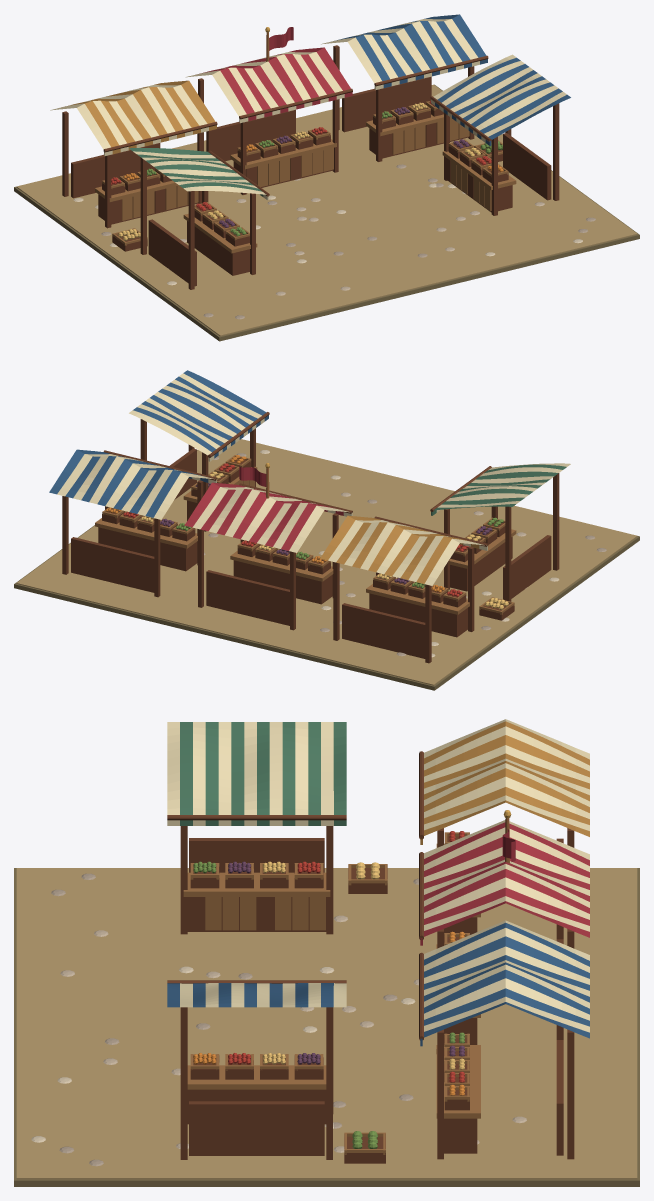
The model's file is market-nivel-2.glb.
3 renders of one model, top to bottom at view 1: azimuth 30°, elevation 25°; view 2: azimuth 150°, elevation 25°; view 3: azimuth 270°, elevation 25°, orthographic. The views are drawn at different scales.
Parts seen in each view (by area): view 1: Mercado 02 #b3986a, Mercado 02 #70432c, Mercado 02 #eadbb2, Mercado 02 #9f7145, Mercado 02 #3a6185, Mercado 02 #7f704e, Mercado 02 #a63843, Mercado 02 #bb8846, Mercado 02 #4d7860, Mercado 02 #e8bf71, Mercado 02 #c1af99, Mercado 02 #ae9d8b; view 2: Mercado 02 #b3986a, Mercado 02 #70432c, Mercado 02 #eadbb2, Mercado 02 #3a6185, Mercado 02 #9f7145, Mercado 02 #7f704e, Mercado 02 #bb8846, Mercado 02 #a63843, Mercado 02 #4d7860, Mercado 02 #e8bf71; view 3: Mercado 02 #b3986a, Mercado 02 #eadbb2, Mercado 02 #70432c, Mercado 02 #9f7145, Mercado 02 #3a6185, Mercado 02 #4d7860, Mercado 02 #bb8846, Mercado 02 #a63843, Mercado 02 #7f704e, Mercado 02 #c1af99, Mercado 02 #e8bf71, Mercado 02 #ae9d8b (+2 smaller).
Boxes of the visible parts, x1=… form: Mercado 02 #b3986a: x1=16, y1=84, x2=637, y2=336; Mercado 02 #70432c: x1=62, y1=45, x2=559, y2=289; Mercado 02 #eadbb2: x1=50, y1=19, x2=566, y2=200; Mercado 02 #9f7145: x1=95, y1=101, x2=516, y2=253; Mercado 02 #3a6185: x1=334, y1=14, x2=570, y2=145; Mercado 02 #7f704e: x1=14, y1=84, x2=639, y2=341; Mercado 02 #a63843: x1=199, y1=47, x2=352, y2=121; Mercado 02 #bb8846: x1=61, y1=80, x2=216, y2=154; Mercado 02 #4d7860: x1=129, y1=148, x2=263, y2=196; Mercado 02 #e8bf71: x1=118, y1=102, x2=480, y2=240; Mercado 02 #c1af99: x1=167, y1=198, x2=544, y2=295; Mercado 02 #ae9d8b: x1=101, y1=164, x2=595, y2=319; Mercado 02 #b3986a: x1=16, y1=439, x2=637, y2=685; Mercado 02 #70432c: x1=62, y1=412, x2=559, y2=663; Mercado 02 #eadbb2: x1=57, y1=373, x2=570, y2=585; Mercado 02 #3a6185: x1=49, y1=370, x2=268, y2=517; Mercado 02 #9f7145: x1=95, y1=455, x2=516, y2=614; Mercado 02 #7f704e: x1=14, y1=450, x2=639, y2=690; Mercado 02 #bb8846: x1=320, y1=515, x2=479, y2=583; Mercado 02 #a63843: x1=184, y1=482, x2=343, y2=550; Mercado 02 #4d7860: x1=431, y1=464, x2=566, y2=515; Mercado 02 #e8bf71: x1=141, y1=471, x2=508, y2=609; Mercado 02 #b3986a: x1=16, y1=868, x2=637, y2=1179; Mercado 02 #eadbb2: x1=167, y1=719, x2=589, y2=1032; Mercado 02 #70432c: x1=167, y1=751, x2=574, y2=1163; Mercado 02 #9f7145: x1=183, y1=832, x2=480, y2=1154; Mercado 02 #3a6185: x1=167, y1=922, x2=589, y2=1046; Mercado 02 #4d7860: x1=180, y1=722, x2=346, y2=825; Mercado 02 #bb8846: x1=420, y1=721, x2=589, y2=844; Mercado 02 #a63843: x1=420, y1=822, x2=589, y2=945; Mercado 02 #7f704e: x1=14, y1=868, x2=639, y2=1186; Mercado 02 #c1af99: x1=60, y1=915, x2=526, y2=1152; Mercado 02 #e8bf71: x1=263, y1=861, x2=464, y2=1069; Mercado 02 #ae9d8b: x1=51, y1=873, x2=418, y2=1166.
Bounding box in the file's own units: 12.79 × 4.21 × 10.82.
